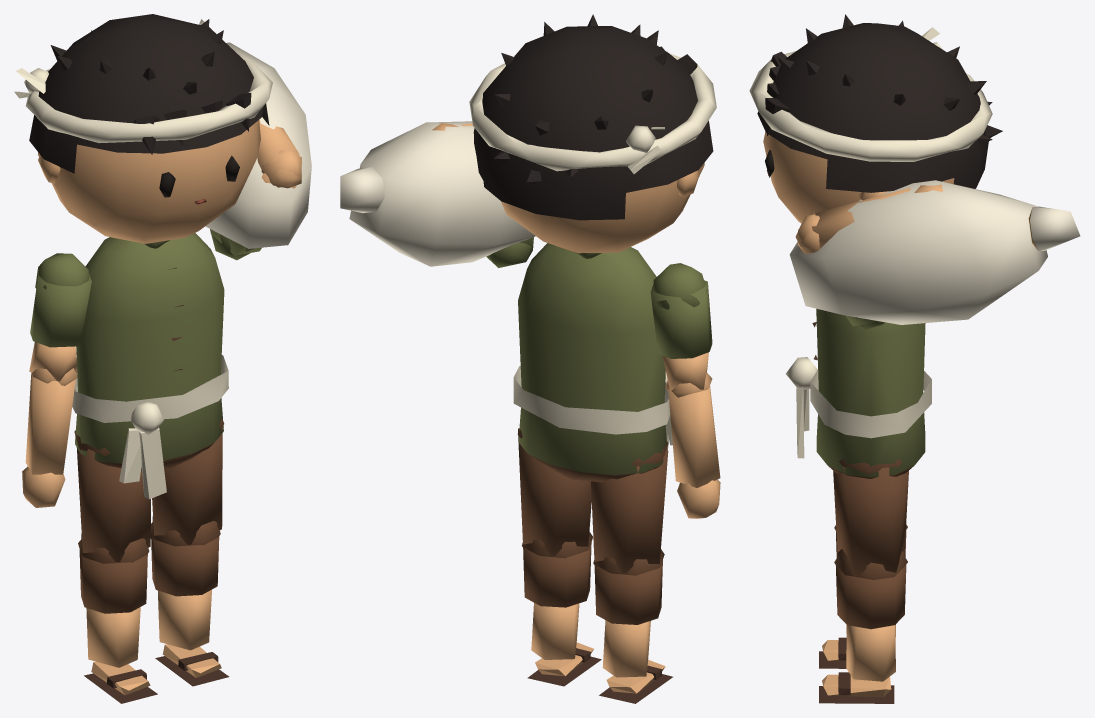
Rendered from era2_porter_sack.glb.
3 renders of one model, left to right at view 1: azimuth 30°, elevation 25°; view 2: azimuth 150°, elevation 25°; view 3: azimuth 270°, elevation 25°, orthographic.
Parts seen in each view (by area): view 1: head, body, shin_L, shin_R, prop_sack, leg_R, arm_R, leg_L, forearm_R, arm_L, forearm_L; view 2: head, body, prop_sack, shin_L, shin_R, leg_R, arm_R, leg_L, forearm_R, arm_L; view 3: head, prop_sack, body, shin_L, leg_L, forearm_L, shin_R, arm_L.
Part boxes in pixels (x1=…): head: x1=14, y1=14, x2=272, y2=243; body: x1=72, y1=233, x2=228, y2=499; shin_L: x1=151, y1=516, x2=229, y2=686; shin_R: x1=79, y1=534, x2=157, y2=703; prop_sack: x1=199, y1=19, x2=311, y2=248; leg_R: x1=74, y1=430, x2=150, y2=563; arm_R: x1=29, y1=253, x2=91, y2=385; leg_L: x1=151, y1=419, x2=224, y2=546; forearm_R: x1=22, y1=369, x2=75, y2=507; arm_L: x1=210, y1=150, x2=301, y2=260; forearm_L: x1=257, y1=119, x2=301, y2=187; head: x1=469, y1=14, x2=716, y2=253; body: x1=513, y1=243, x2=672, y2=482; prop_sack: x1=340, y1=121, x2=535, y2=266; shin_L: x1=523, y1=531, x2=601, y2=686; shin_R: x1=594, y1=550, x2=672, y2=703; leg_R: x1=591, y1=441, x2=668, y2=575; arm_R: x1=650, y1=263, x2=712, y2=397; leg_L: x1=517, y1=428, x2=592, y2=558; forearm_R: x1=668, y1=380, x2=720, y2=518; arm_L: x1=486, y1=237, x2=533, y2=267; head: x1=749, y1=14, x2=1002, y2=223; prop_sack: x1=789, y1=180, x2=1080, y2=324; body: x1=786, y1=308, x2=931, y2=478; shin_L: x1=819, y1=549, x2=906, y2=703; leg_L: x1=833, y1=458, x2=908, y2=579; forearm_L: x1=795, y1=184, x2=942, y2=250; shin_R: x1=819, y1=530, x2=906, y2=668; arm_L: x1=798, y1=215, x2=885, y2=329.
Size of the model in its own units: 0.722 by 1.47 by 0.6856.
